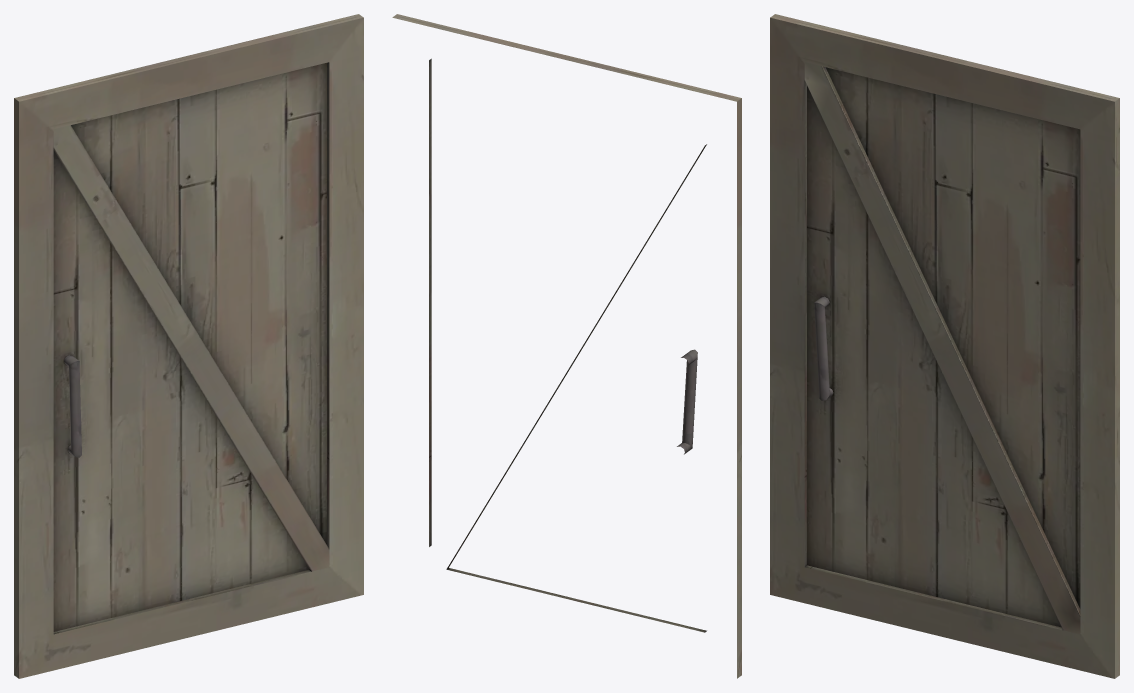
3 renders of one model, left to right at view 1: azimuth 30°, elevation 25°; view 2: azimuth 150°, elevation 25°; view 3: azimuth 330°, elevation 25°, orthographic.
Visible parts, largest first — view 1: body0_model0_lod0_mesh0; view 2: body0_model0_lod0_mesh0; view 3: body0_model0_lod0_mesh0.
Part boxes in pixels (<box>): body0_model0_lod0_mesh0: <box>14,14,363,678</box>; body0_model0_lod0_mesh0: <box>392,14,741,678</box>; body0_model0_lod0_mesh0: <box>770,14,1119,678</box>.
Bounding box in the file's own units: 79.99 × 128 × 4.53.
Materials: 1 (1 with a texture image).
